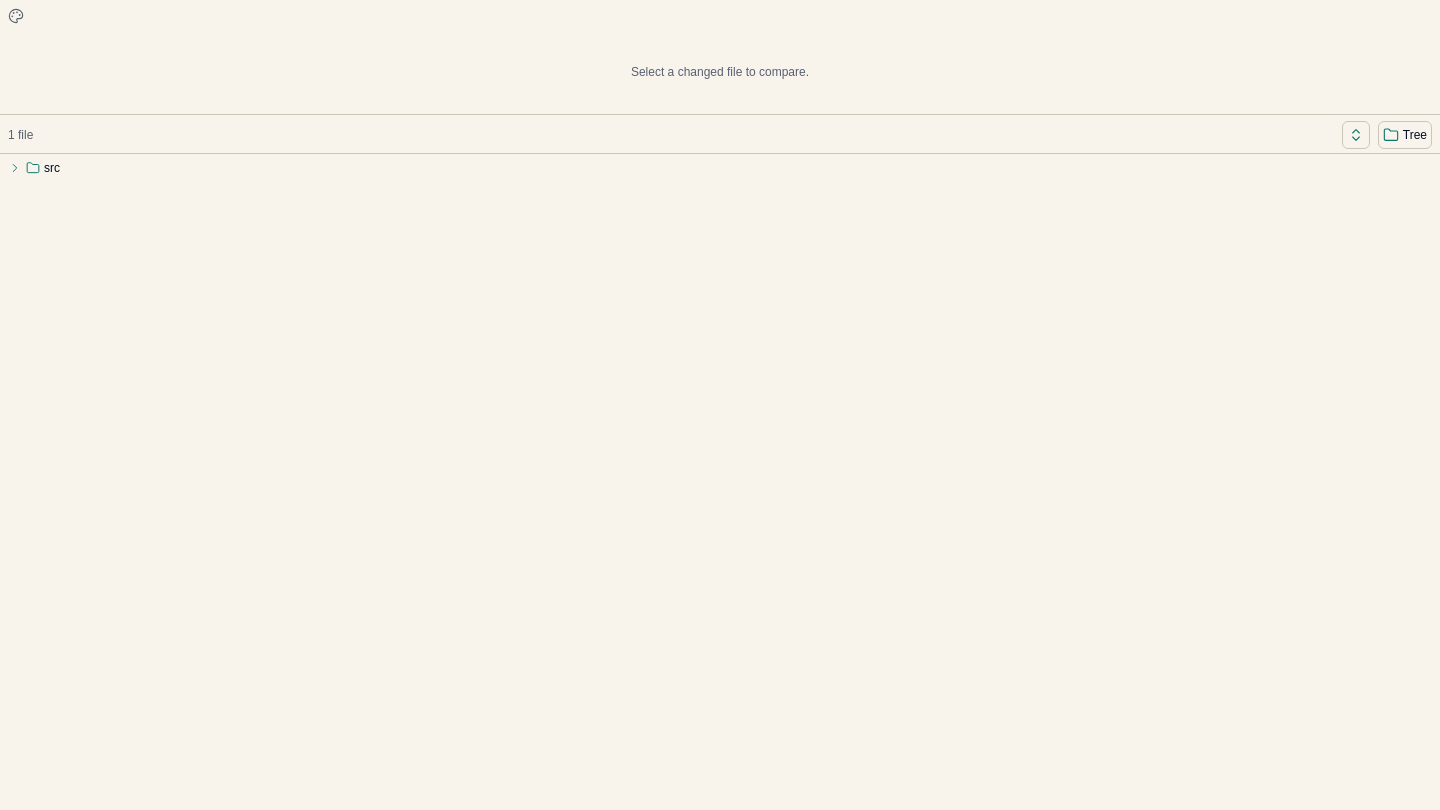
a matched dark preset and then explicit light syntax keep the comparison readable independently of the interface
This screenshot has width=1440, height=810.
Click the button named "Expand all". click: [1356, 135]
box: [1342,121,1370,149]
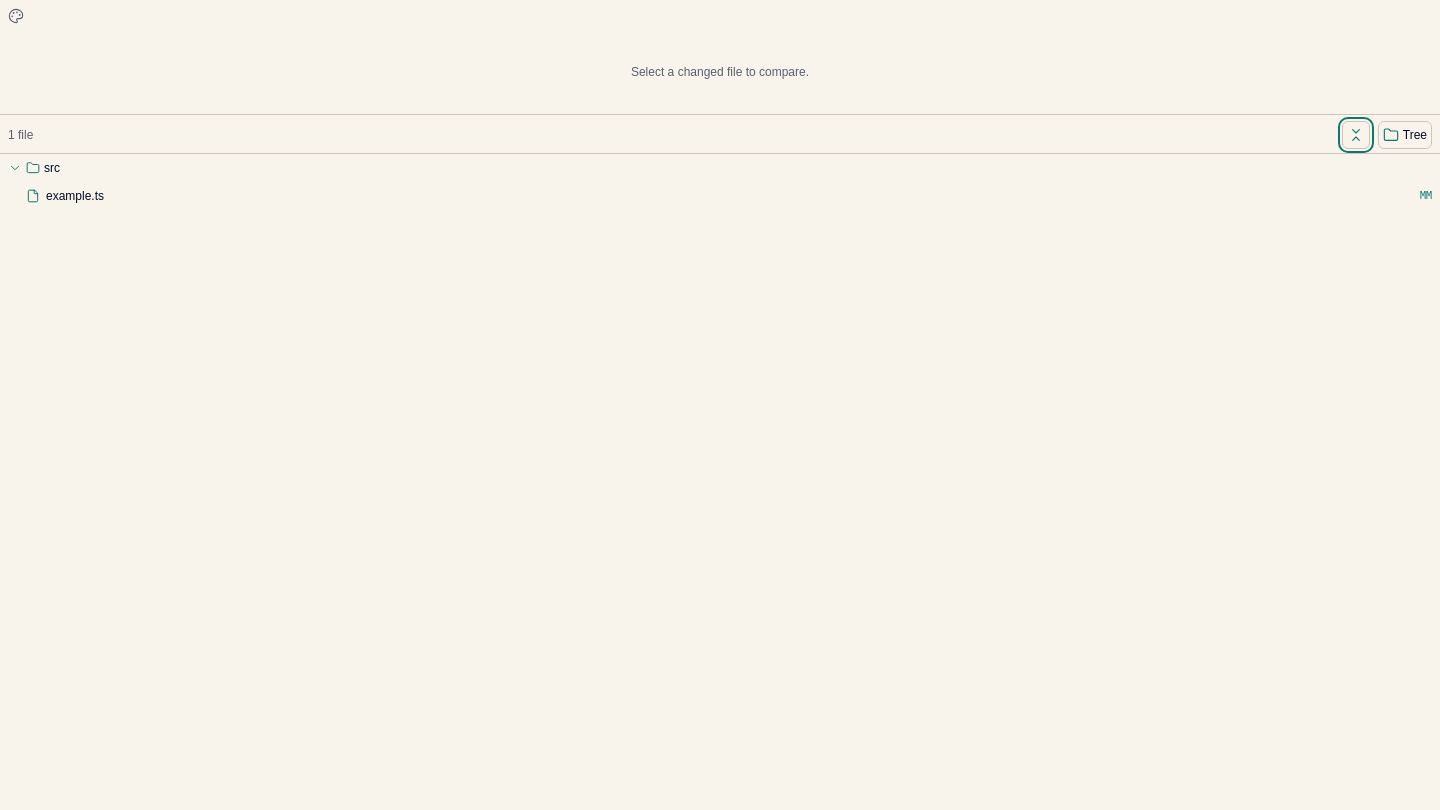
Click the button with aria-label "Review src/example.ts". click: [75, 196]
box: [22,182,1436,210]
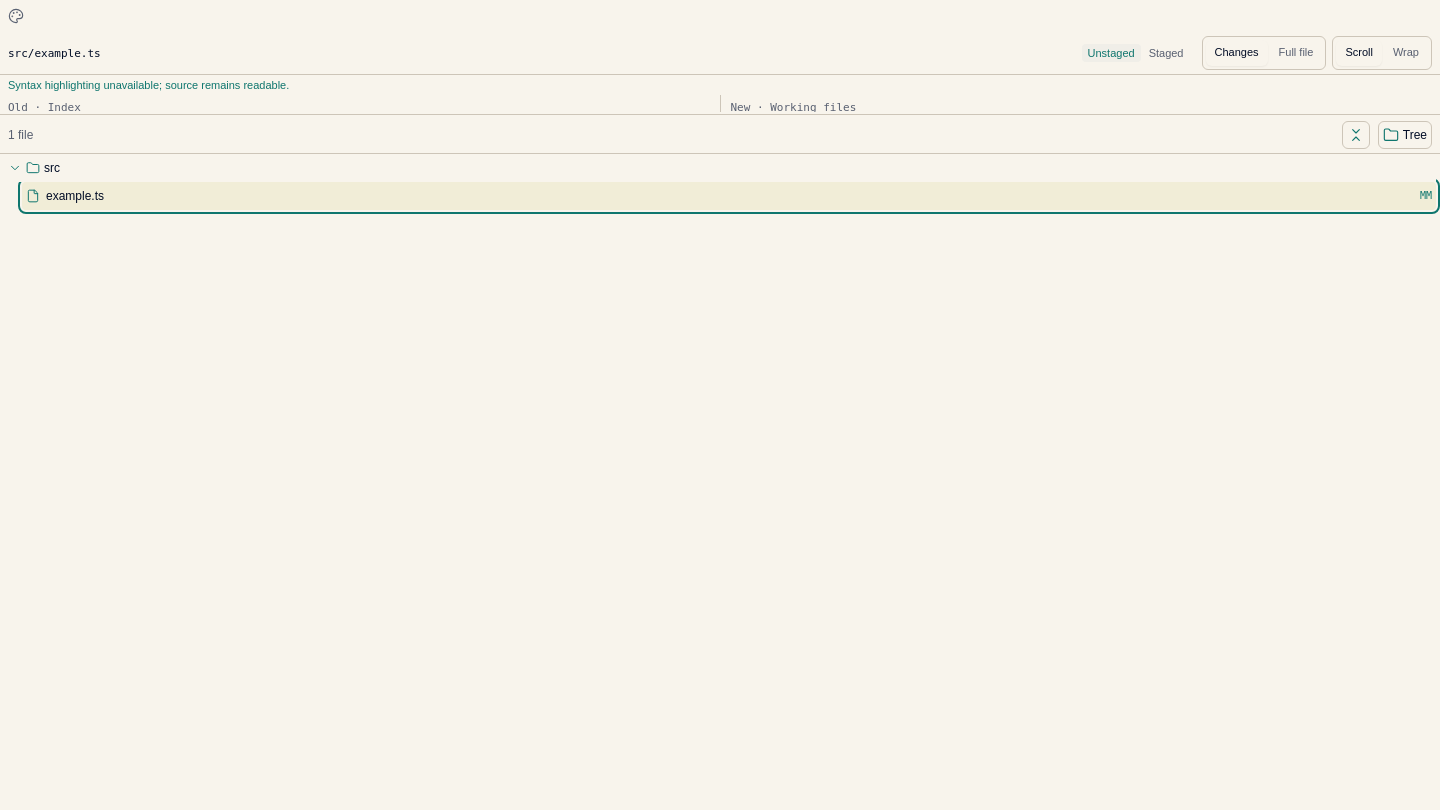
Click the button named "Appearance". click: [16, 16]
box: [0,0,32,32]
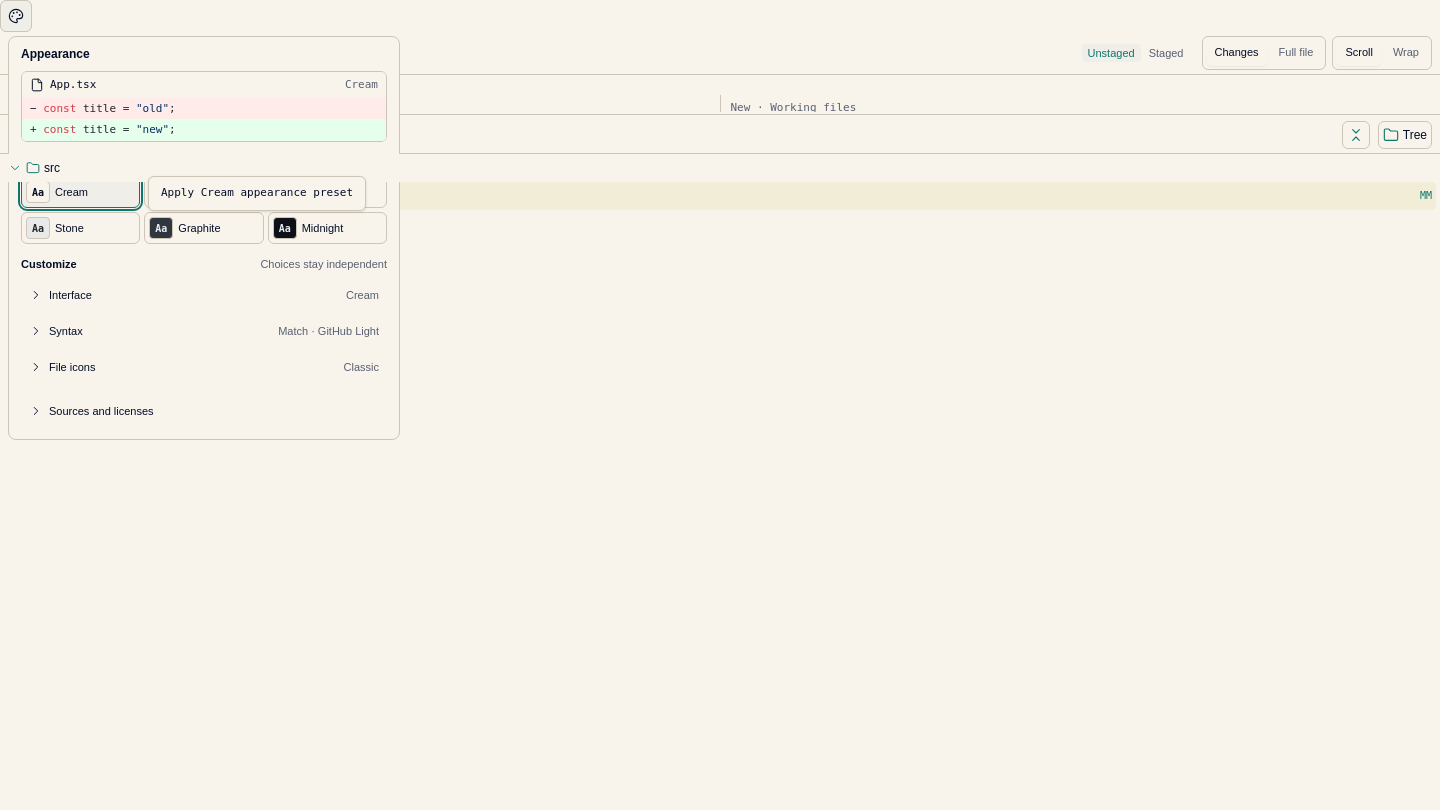
Click the button "Aa Midnight". click: [327, 228]
box: [268,212,387,244]
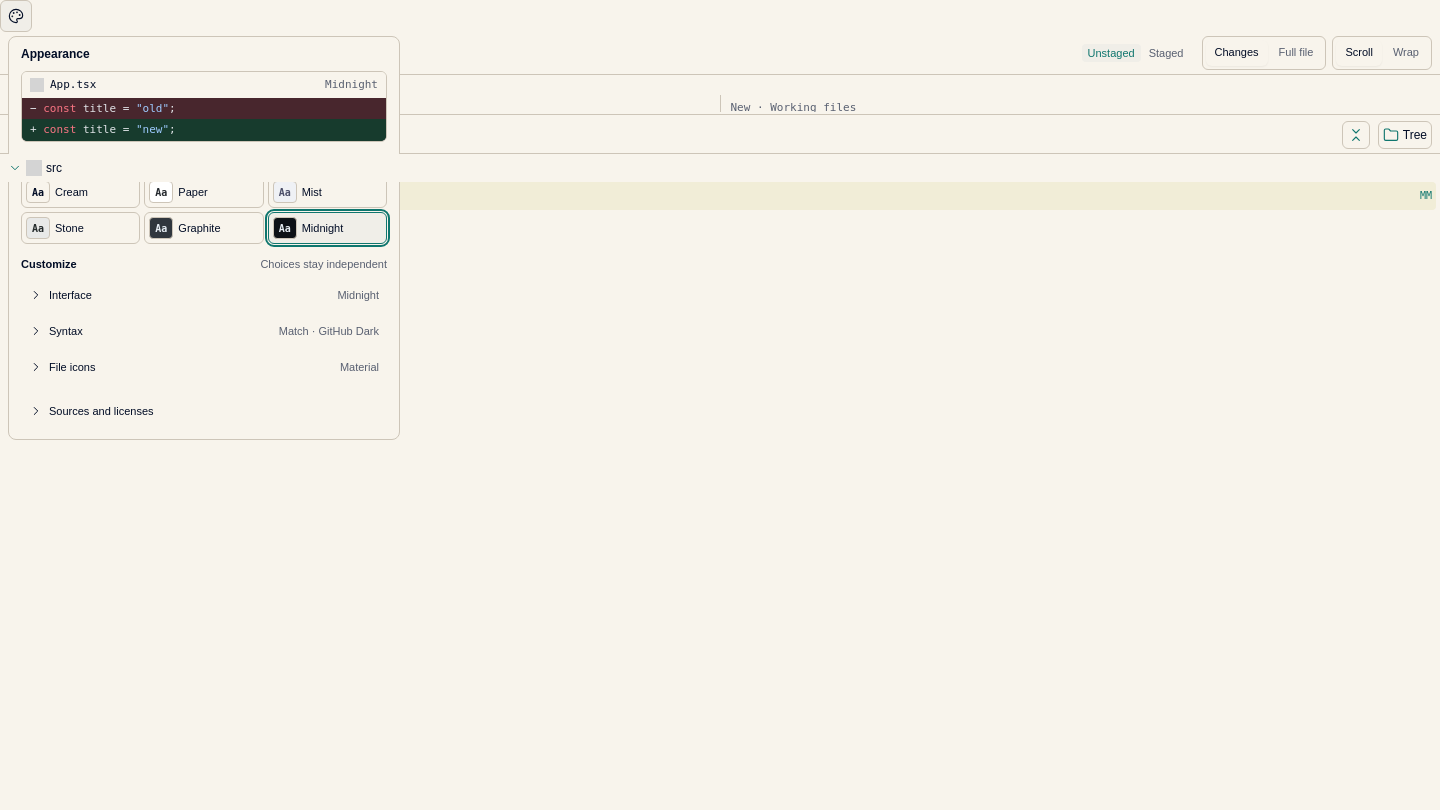
Check: the picture named "Midnight interface, GitHub Dark syntax, Material icons" is shown, box [21,71,387,142]
Click the text "Syntax". click: [66, 331]
box: [49,322,83,339]
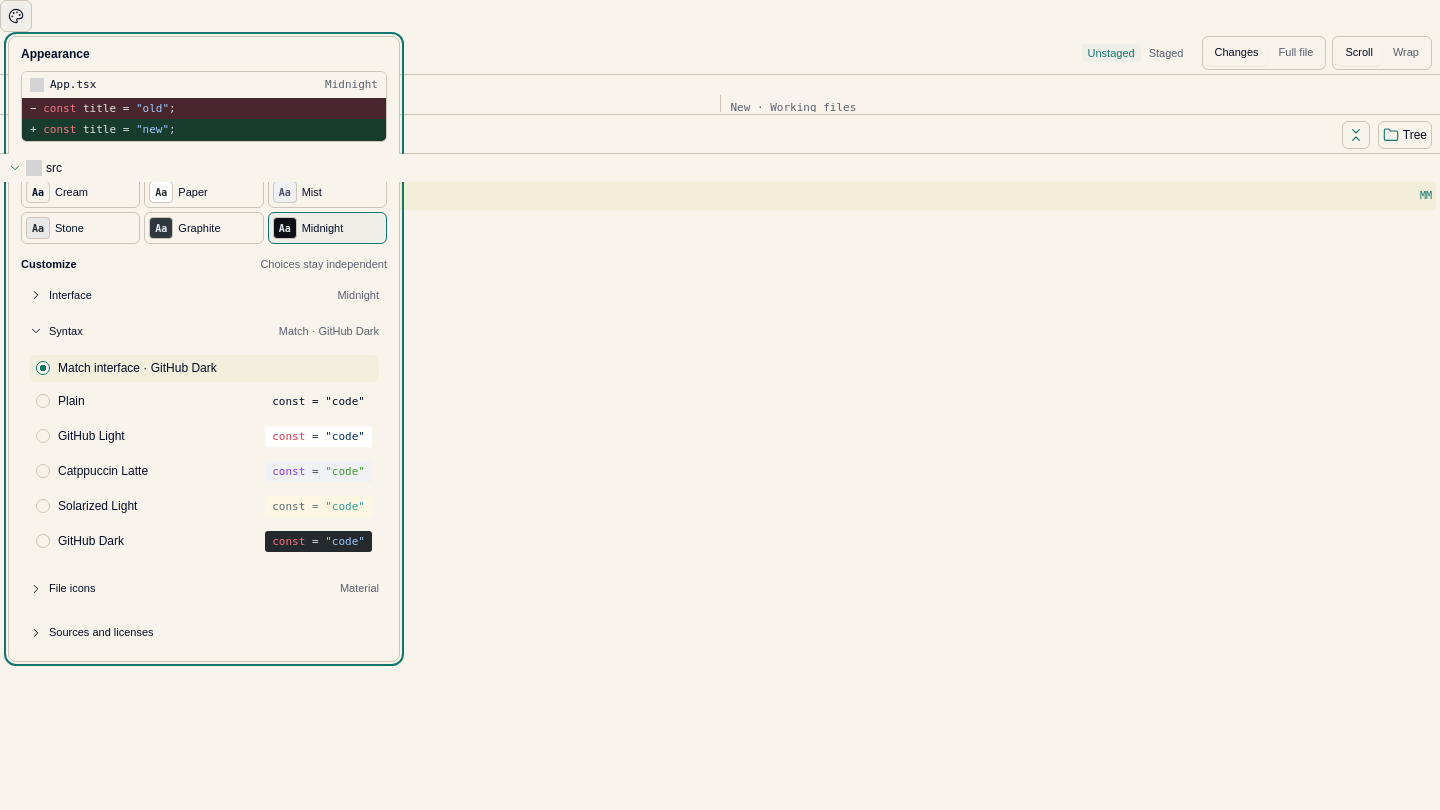
Click the radio button labelled "GitHub Light". click: [43, 436]
box: [36,429,50,443]
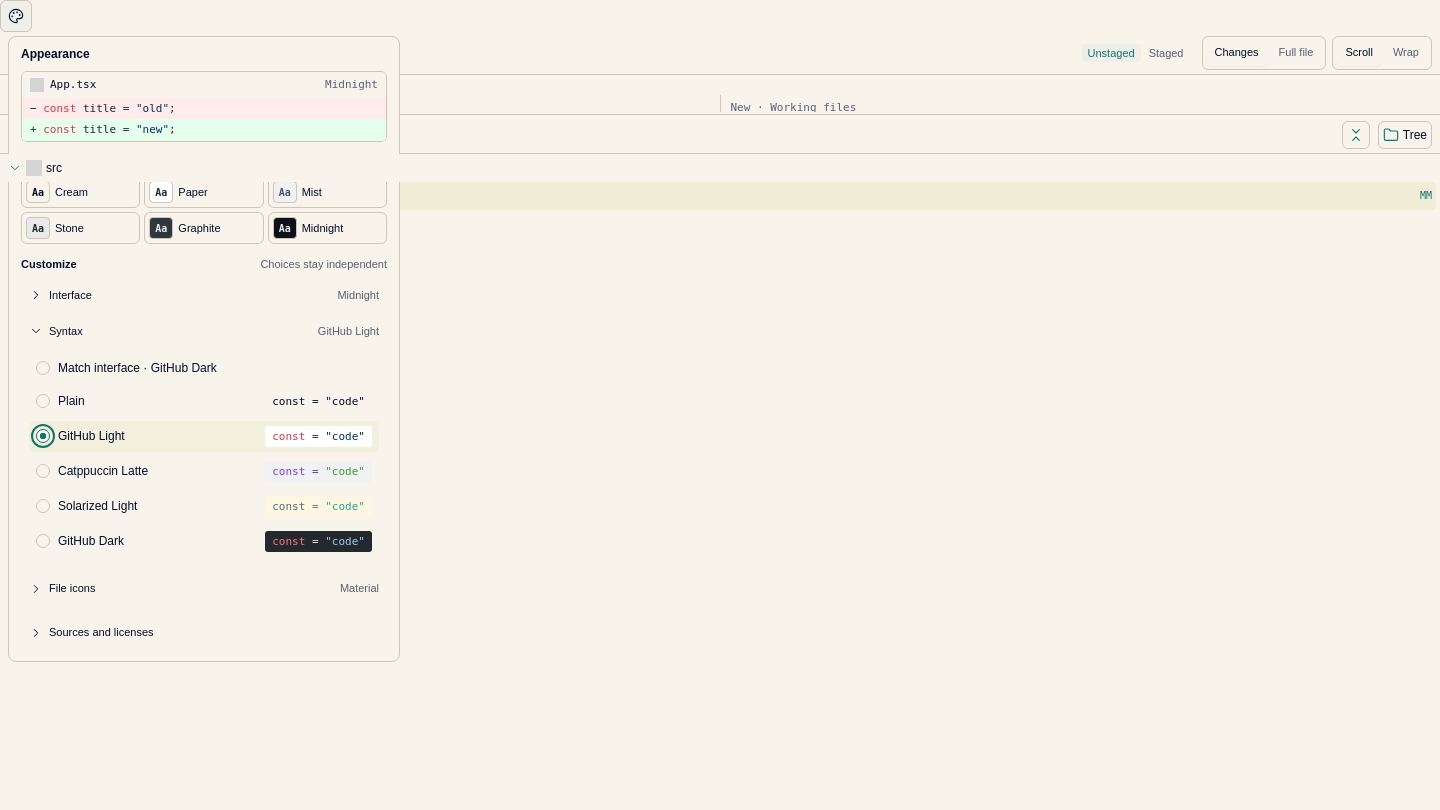
Check: the picture named "Midnight interface, GitHub Light syntax, Material icons" is shown, box [21,71,387,142]
